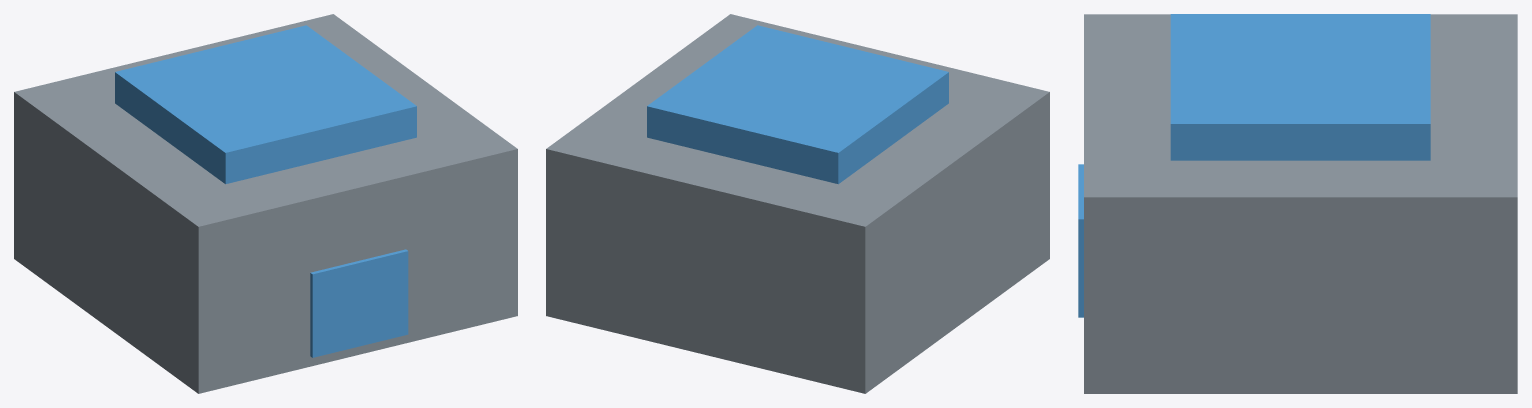
File: AL_WarFactory_LOD0.glb
3 views of the same model, side by side, from view 1: azimuth 30°, elevation 25°; view 2: azimuth 150°, elevation 25°; view 3: azimuth 270°, elevation 25° (orthographic). The views are drawn at different scales.
Visible parts, largest first — view 1: EntranceGate; view 2: EntranceGate; view 3: EntranceGate.
Part boxes in pixels (box(x1,y1,x2,y2)): EntranceGate: box(14, 14, 517, 393); EntranceGate: box(546, 14, 1049, 393); EntranceGate: box(1078, 14, 1517, 393).
Bounding box in the file's own units: 800 × 475 × 810.
